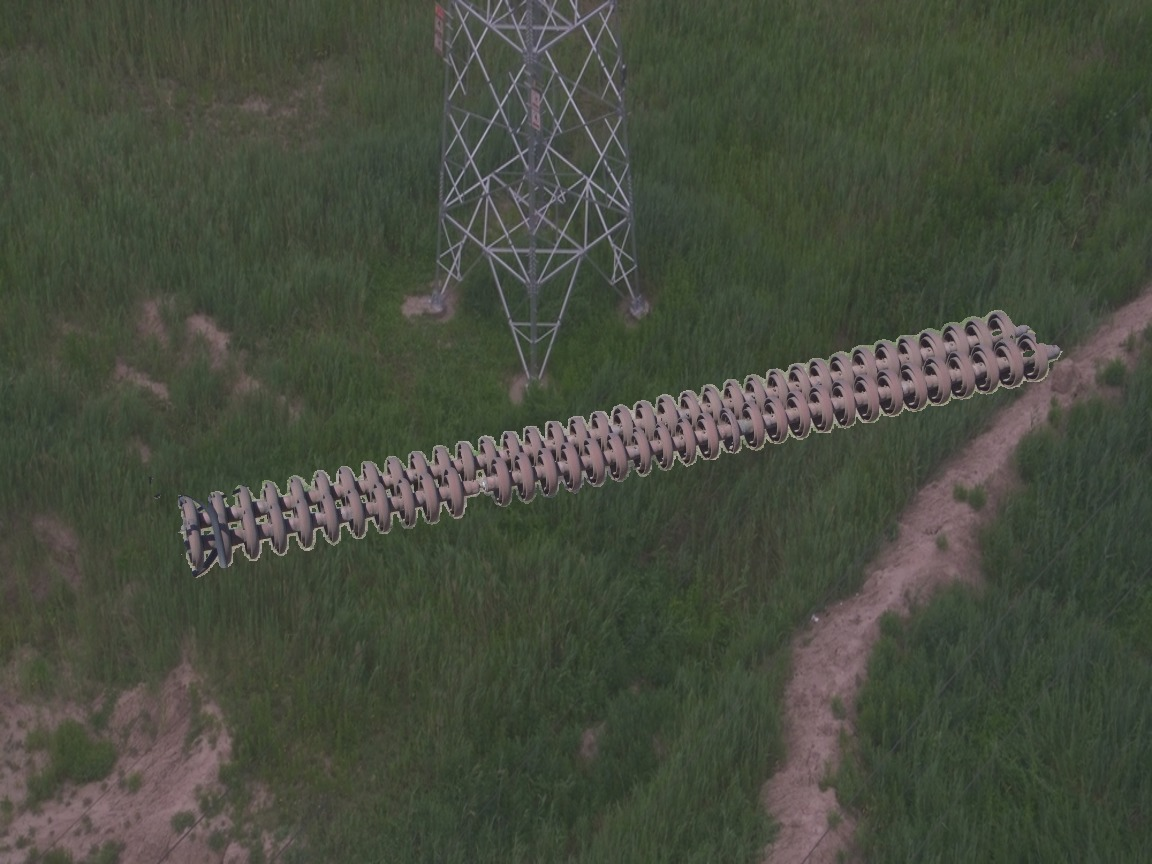defect: (436, 452, 520, 516)
